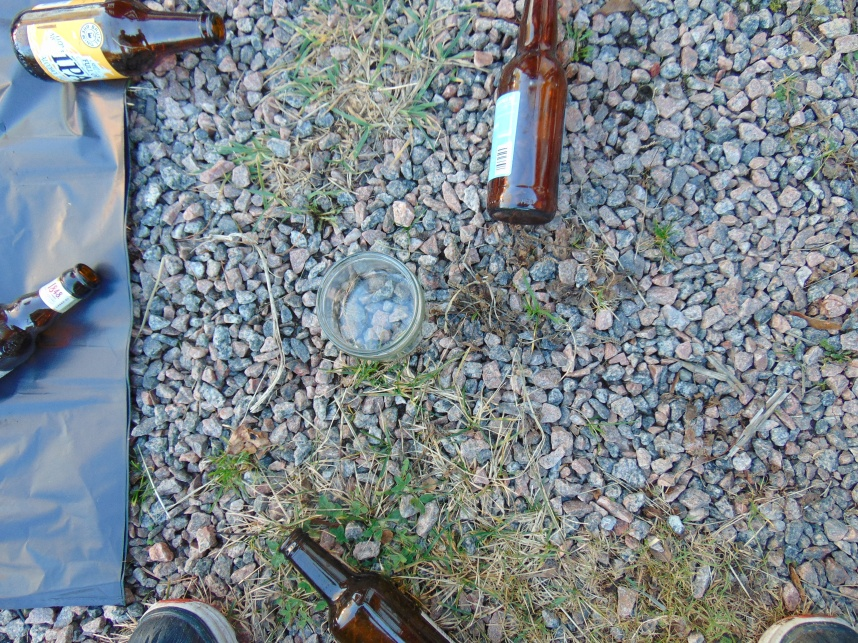glass_bottle: (278, 526, 458, 643), (12, 1, 229, 86), (488, 1, 567, 224), (315, 253, 423, 361), (1, 262, 96, 382)
